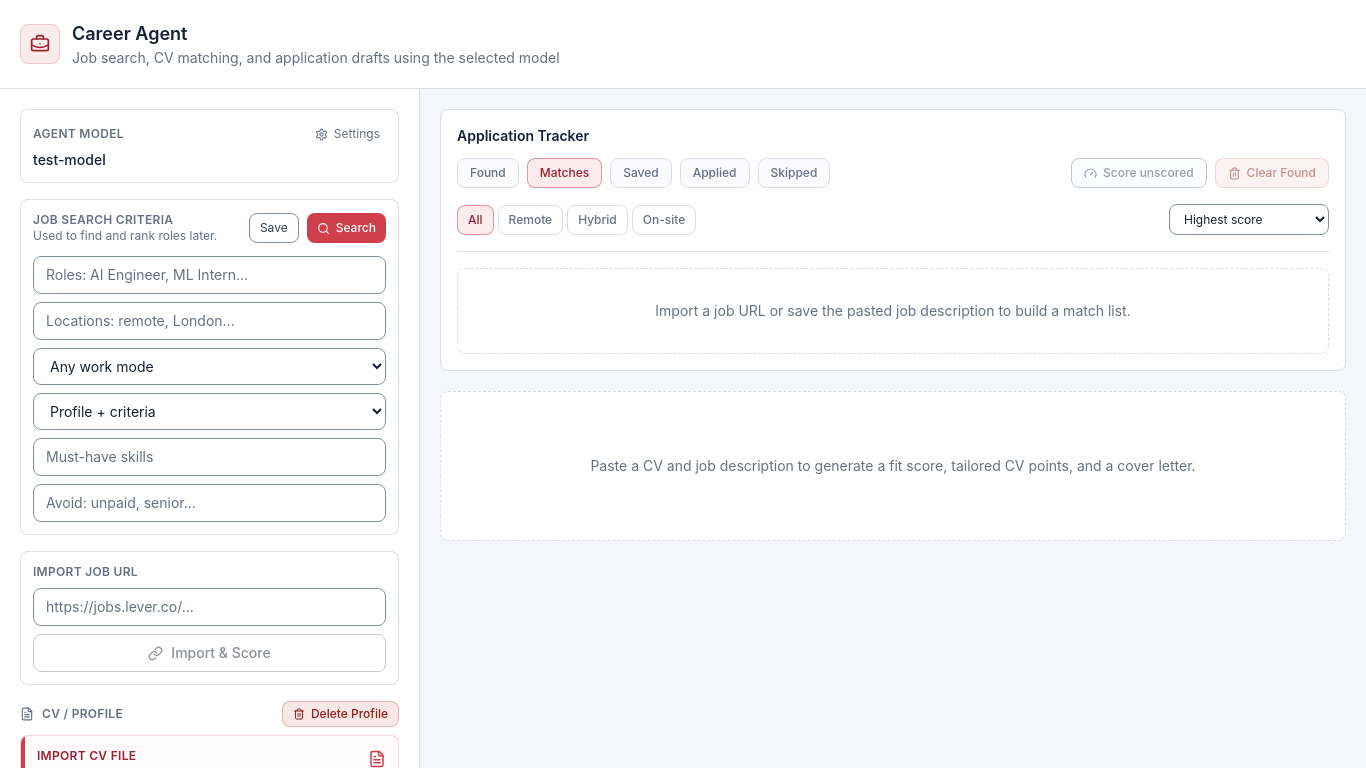
Test: CareerPage tracker behavior › opens an imported low-scoring job in Saved instead of an empty Matches view
The image size is (1366, 768).
Expected: the text "test-model" is shown, x1=33 y1=151 x2=106 y2=168
Type "https://jobs.lever.co/example/1" into the field with placeholder "https://jobs.lever.co/...".
click(210, 607); type("https://jobs.lever.co/example/1")  # box x1=33 y1=588 x2=386 y2=626
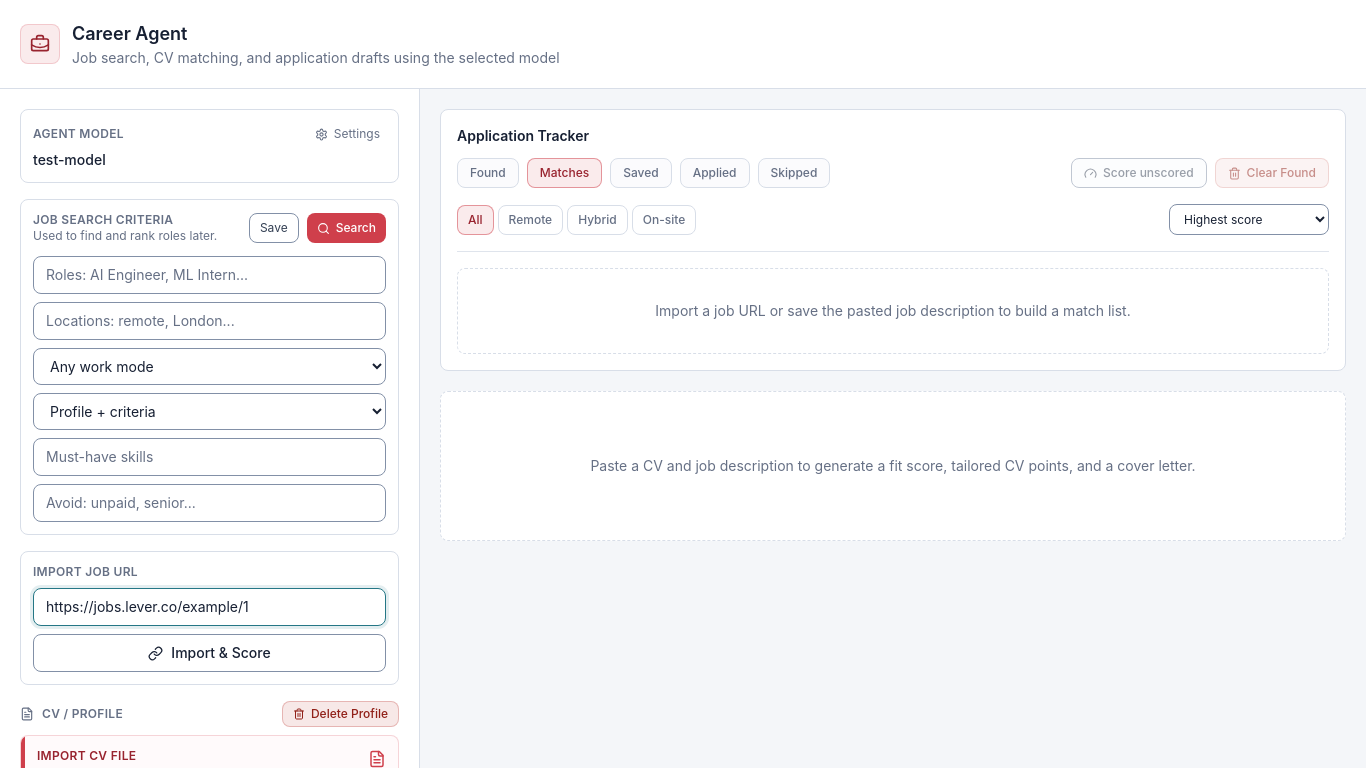
Click the button "Import & Score".
click(210, 653)  # box x1=33 y1=634 x2=386 y2=672
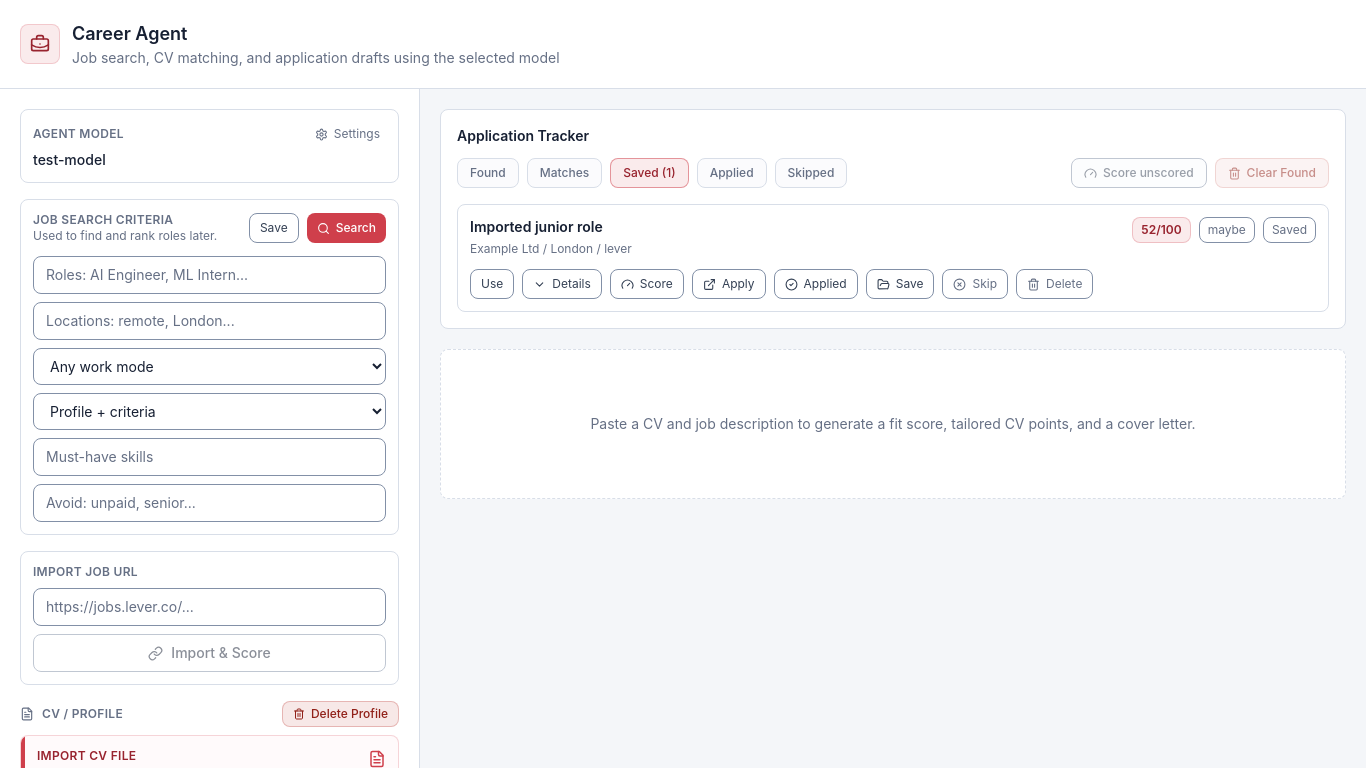
Expected: the text "Imported junior role" is shown, x1=470 y1=218 x2=603 y2=235
